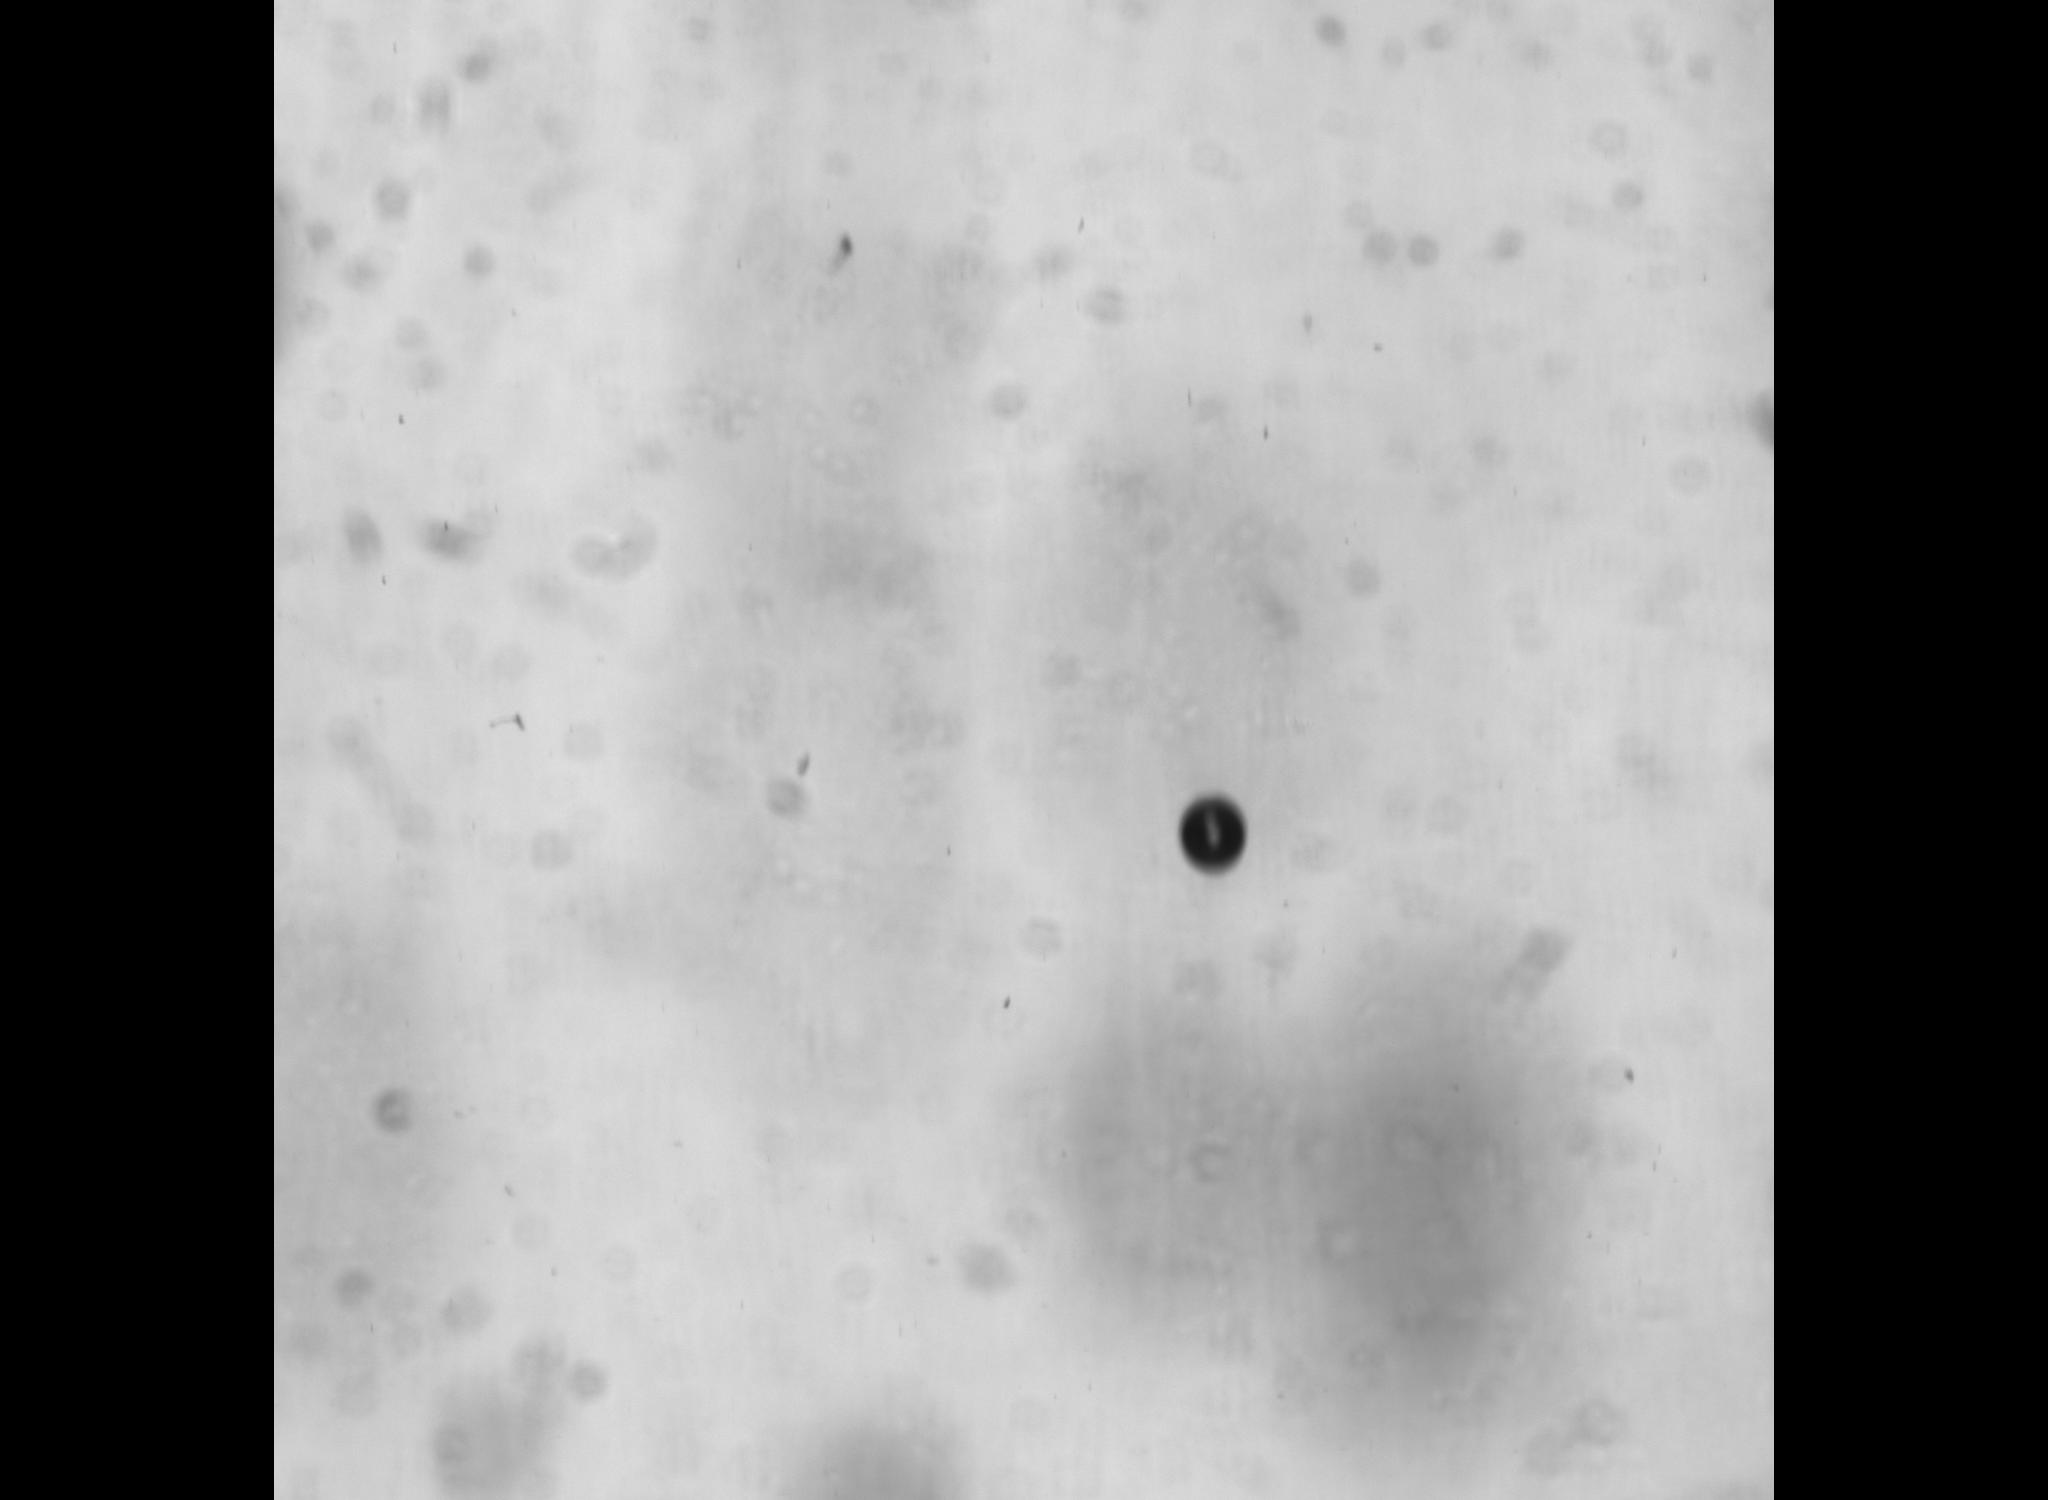bubble: (1180, 797, 1245, 872)
